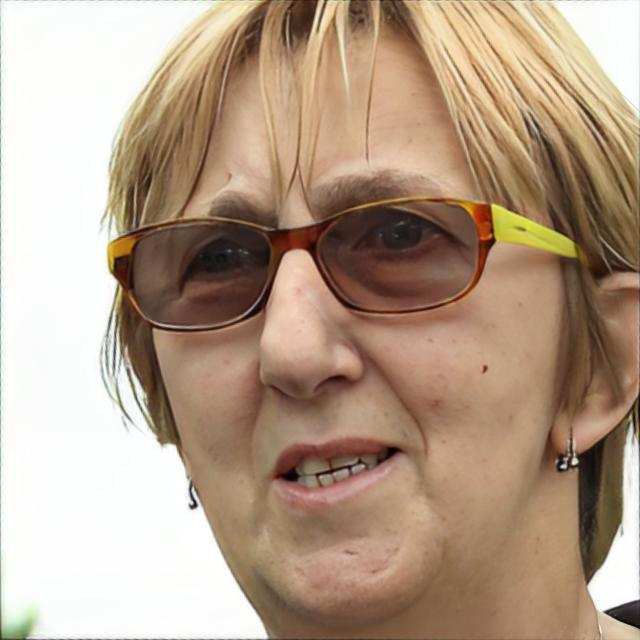disgust: (147, 19, 557, 632)
